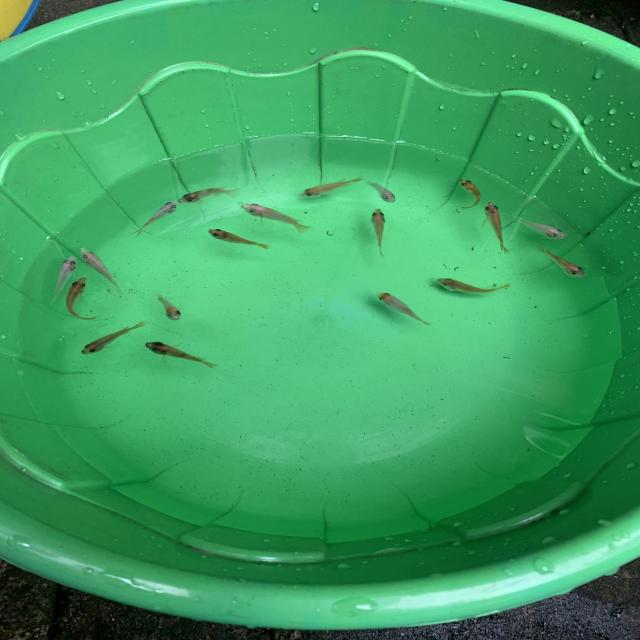nila: (77, 319, 151, 355), (374, 287, 436, 328), (236, 200, 312, 232), (144, 337, 217, 369), (78, 246, 126, 294), (41, 254, 81, 310), (430, 272, 521, 296), (124, 201, 179, 240), (204, 225, 279, 252), (480, 201, 516, 257), (294, 174, 371, 199), (171, 183, 245, 208), (538, 243, 589, 279), (511, 213, 571, 242), (64, 271, 97, 323), (365, 204, 392, 258), (452, 176, 486, 211), (363, 178, 399, 204), (156, 291, 183, 322)
